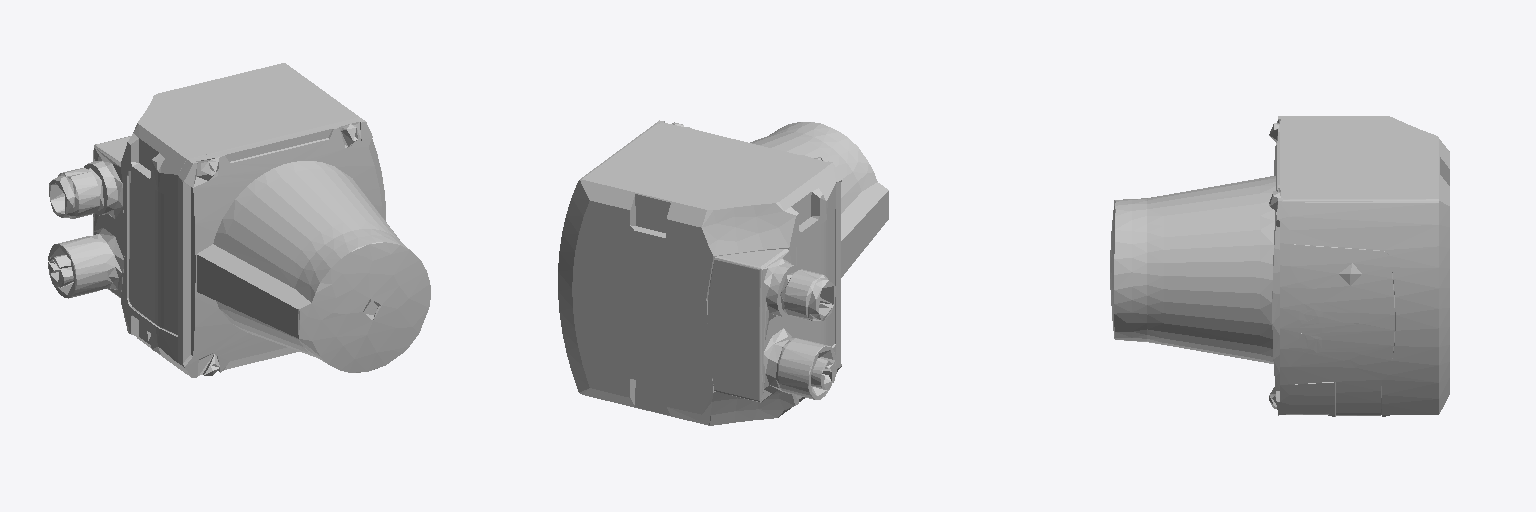
Rendered from sick_tim_5xx.obj.
3 renders of one model, left to right at view 1: azimuth 30°, elevation 25°; view 2: azimuth 150°, elevation 25°; view 3: azimuth 270°, elevation 25°, orthographic.
Bounding box in the file's own units: 0.0763 × 0.0608 × 0.0859.